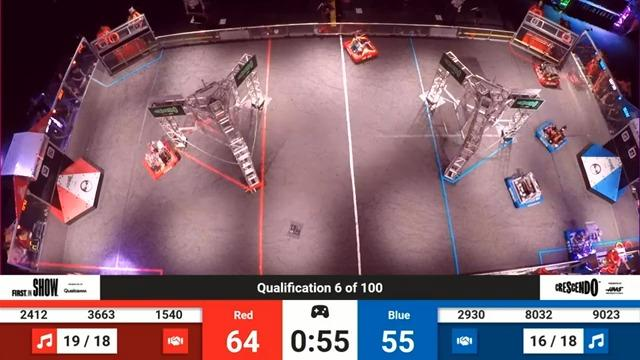robot: (506, 167, 553, 214), (334, 28, 384, 67), (140, 142, 186, 179), (532, 119, 572, 159), (560, 223, 599, 259), (529, 57, 565, 91)
